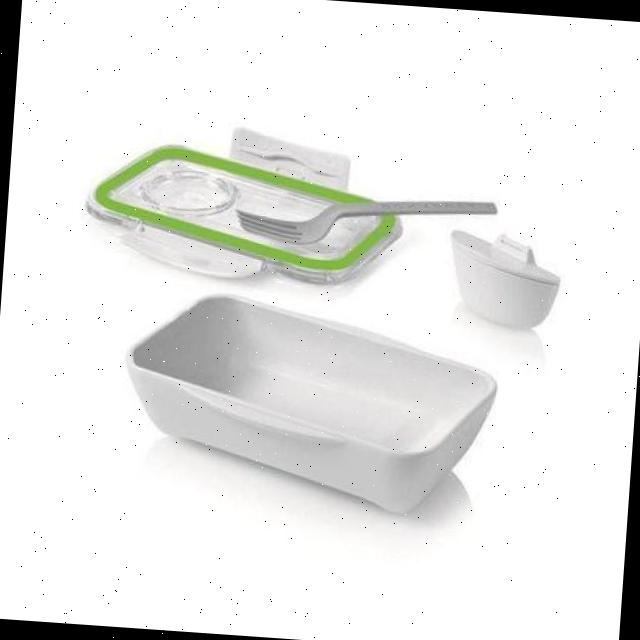styrofoam: (115, 284, 502, 520)
